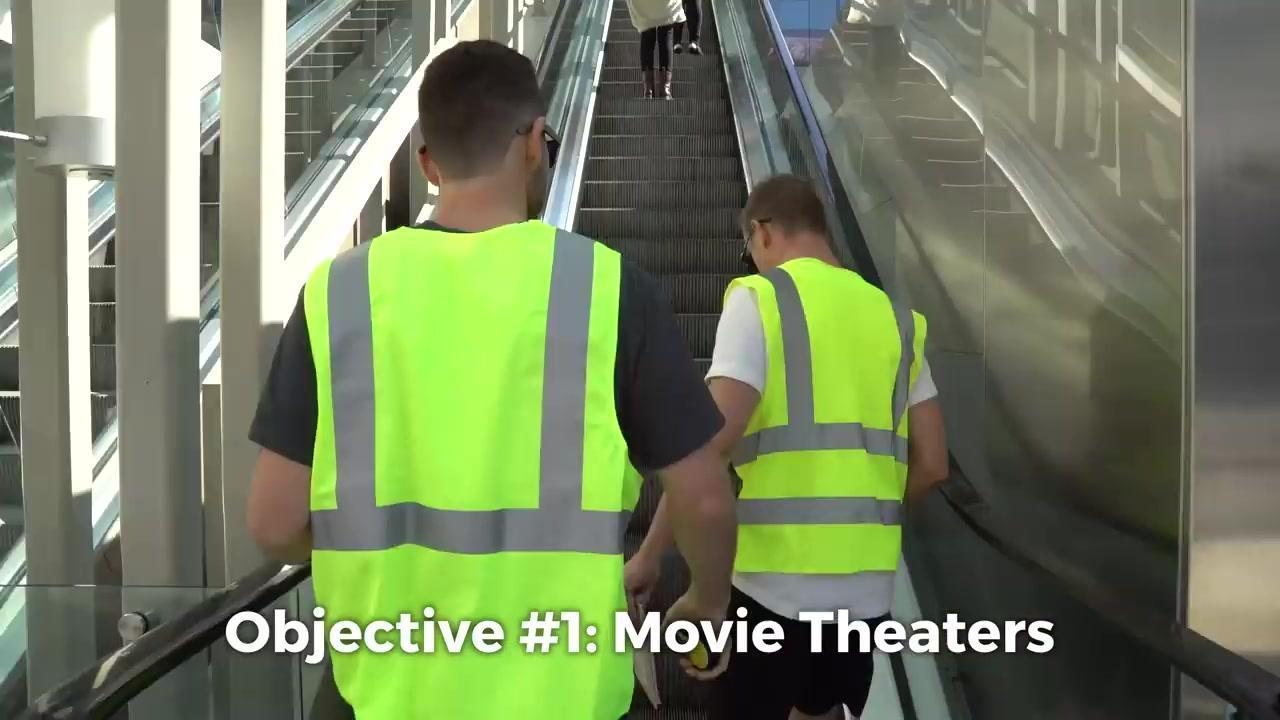vest: (300, 216, 637, 719), (719, 255, 926, 575)
